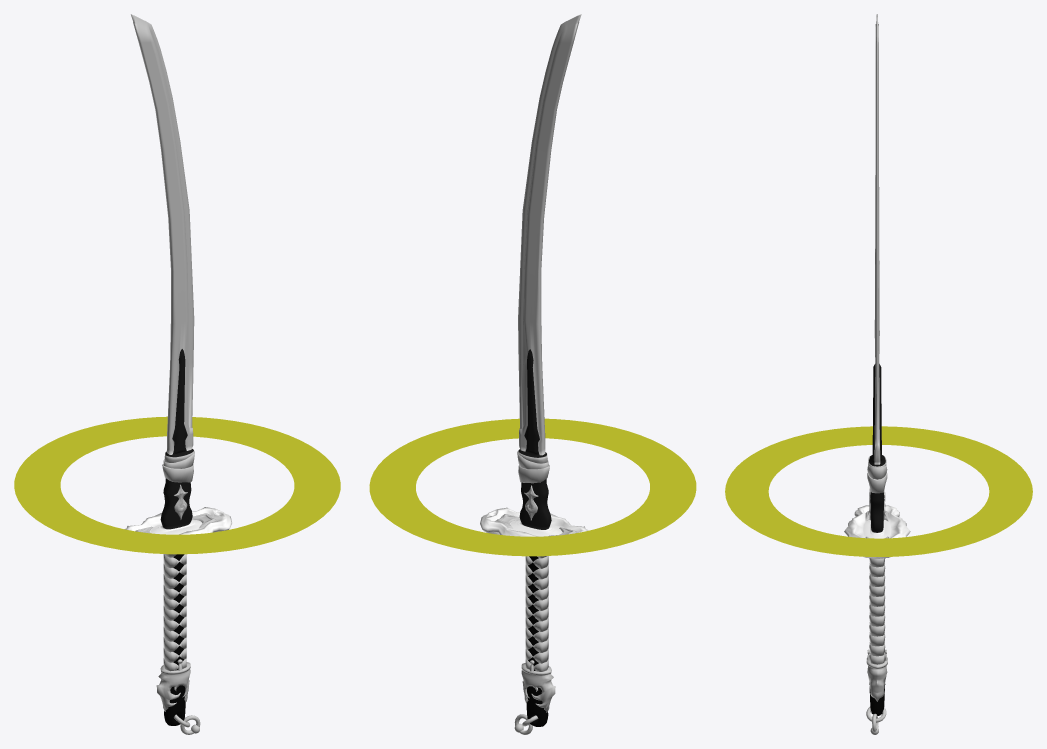
File: VirtuousContract_f.obj
3 views of the same model, side by side, from view 1: azimuth 30°, elevation 25°; view 2: azimuth 150°, elevation 25°; view 3: azimuth 270°, elevation 25° (orthographic). The views are drawn at different scales.
Parts seen in each view (by area): view 1: TechRing_TechRing, Katana_low_Katana_low, Grip_low_Grip_low, HandleOrnament_low_HandleOrnament_low, KatanaBands_low_KatanaBands_low; view 2: TechRing_TechRing, Katana_low_Katana_low, Grip_low_Grip_low, HandleOrnament_low_HandleOrnament_low, KatanaBands_low_KatanaBands_low; view 3: TechRing_TechRing, Katana_low_Katana_low, Grip_low_Grip_low, HandleOrnament_low_HandleOrnament_low, KatanaBands_low_KatanaBands_low.
Part boxes in pixels (x1=…): TechRing_TechRing: x1=14, y1=416, x2=340, y2=554; Katana_low_Katana_low: x1=124, y1=14, x2=231, y2=725; Grip_low_Grip_low: x1=163, y1=554, x2=186, y2=671; HandleOrnament_low_HandleOrnament_low: x1=156, y1=659, x2=190, y2=711; KatanaBands_low_KatanaBands_low: x1=162, y1=450, x2=194, y2=482; TechRing_TechRing: x1=369, y1=418, x2=696, y2=556; Katana_low_Katana_low: x1=480, y1=14, x2=587, y2=726; Grip_low_Grip_low: x1=525, y1=556, x2=548, y2=671; HandleOrnament_low_HandleOrnament_low: x1=521, y1=660, x2=555, y2=712; KatanaBands_low_KatanaBands_low: x1=517, y1=451, x2=549, y2=483; TechRing_TechRing: x1=725, y1=426, x2=1032, y2=556; Katana_low_Katana_low: x1=844, y1=14, x2=910, y2=715; Grip_low_Grip_low: x1=869, y1=558, x2=885, y2=664; HandleOrnament_low_HandleOrnament_low: x1=866, y1=649, x2=887, y2=701; KatanaBands_low_KatanaBands_low: x1=867, y1=456, x2=887, y2=493.
Bounding box in the file's own units: 3.45 × 8.56 × 3.45.
